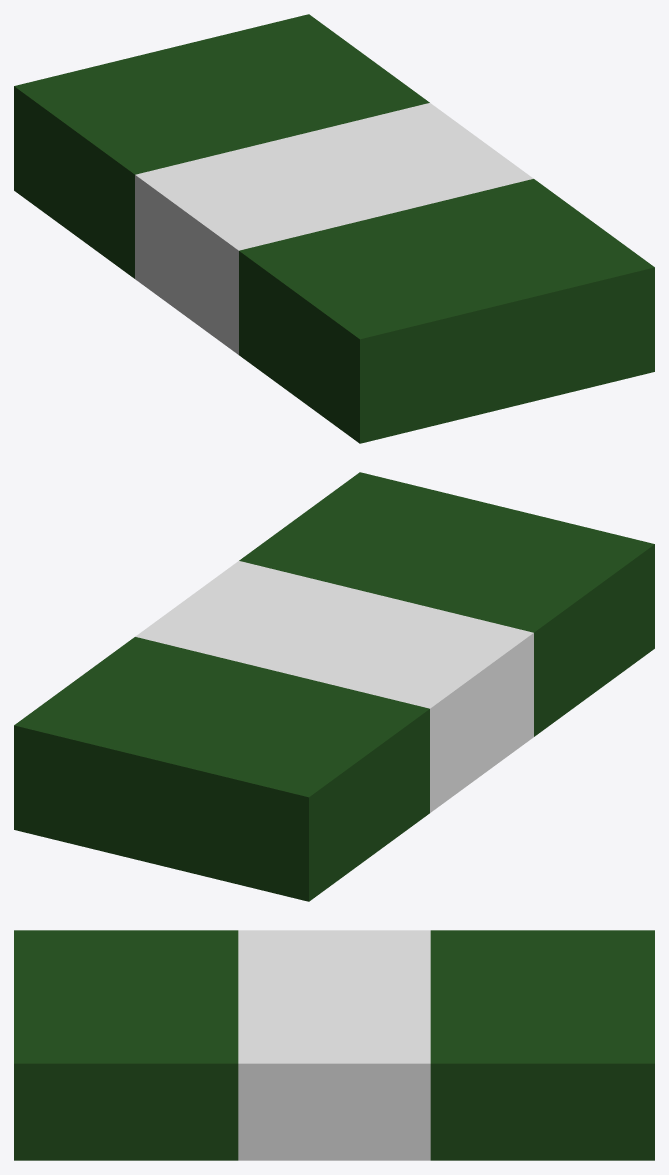
File: Asset_Money.fbx
3 renders of one model, top to bottom at view 1: azimuth 30°, elevation 25°; view 2: azimuth 150°, elevation 25°; view 3: azimuth 270°, elevation 25°, orthographic. The views are drawn at different scales.
Parts seen in each view (by area): view 1: Asset_Money; view 2: Asset_Money; view 3: Asset_Money.
Part boxes in pixels (left/top/right/bottom): Asset_Money: left=14, top=14, right=654, bottom=443; Asset_Money: left=14, top=472, right=654, bottom=901; Asset_Money: left=14, top=930, right=654, bottom=1160.
Bounding box in the file's own units: 12.19 × 4.13 × 24.77.
